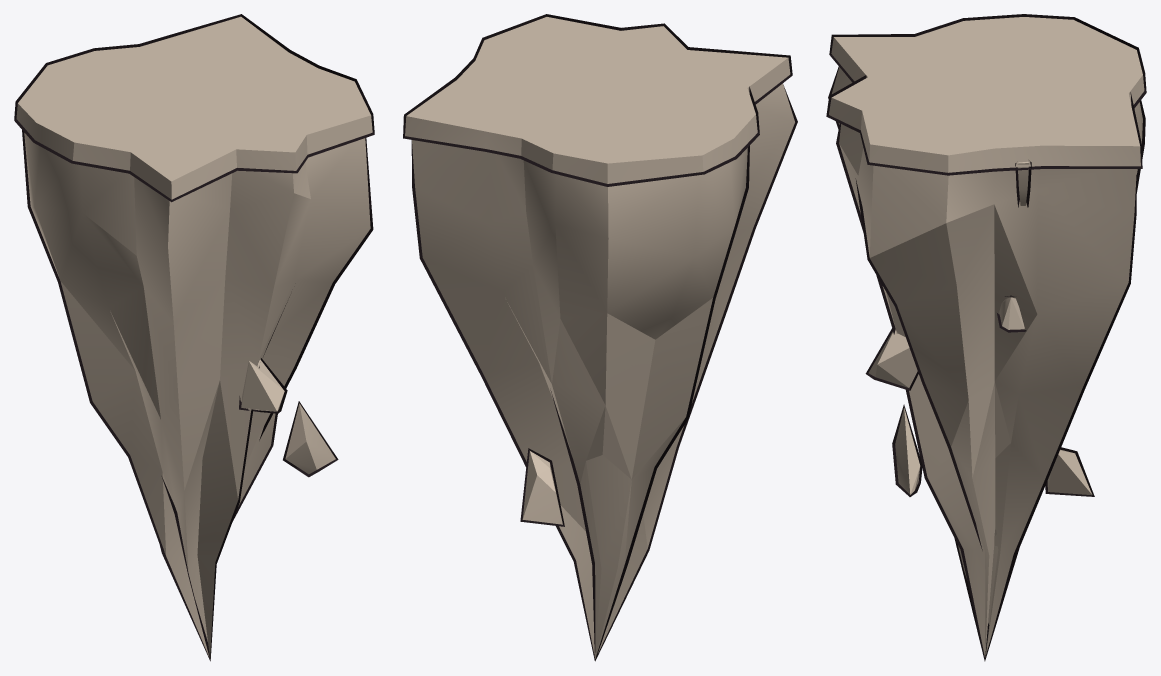
File: SM_Trail_Platform_01.fbx
3 views of the same model, side by side, from view 1: azimuth 30°, elevation 25°; view 2: azimuth 150°, elevation 25°; view 3: azimuth 270°, elevation 25° (orthographic). The views are drawn at different scales.
Visible parts, largest first — view 1: SM_Trail_Platform_01; view 2: SM_Trail_Platform_01; view 3: SM_Trail_Platform_01.
Boxes of the visible parts, x1,y1,x2,y2 form: SM_Trail_Platform_01: (14,14,374,661); SM_Trail_Platform_01: (403,14,797,661); SM_Trail_Platform_01: (826,14,1146,661).
Bounding box in the file's own units: 19.92 × 37.32 × 18.95.
